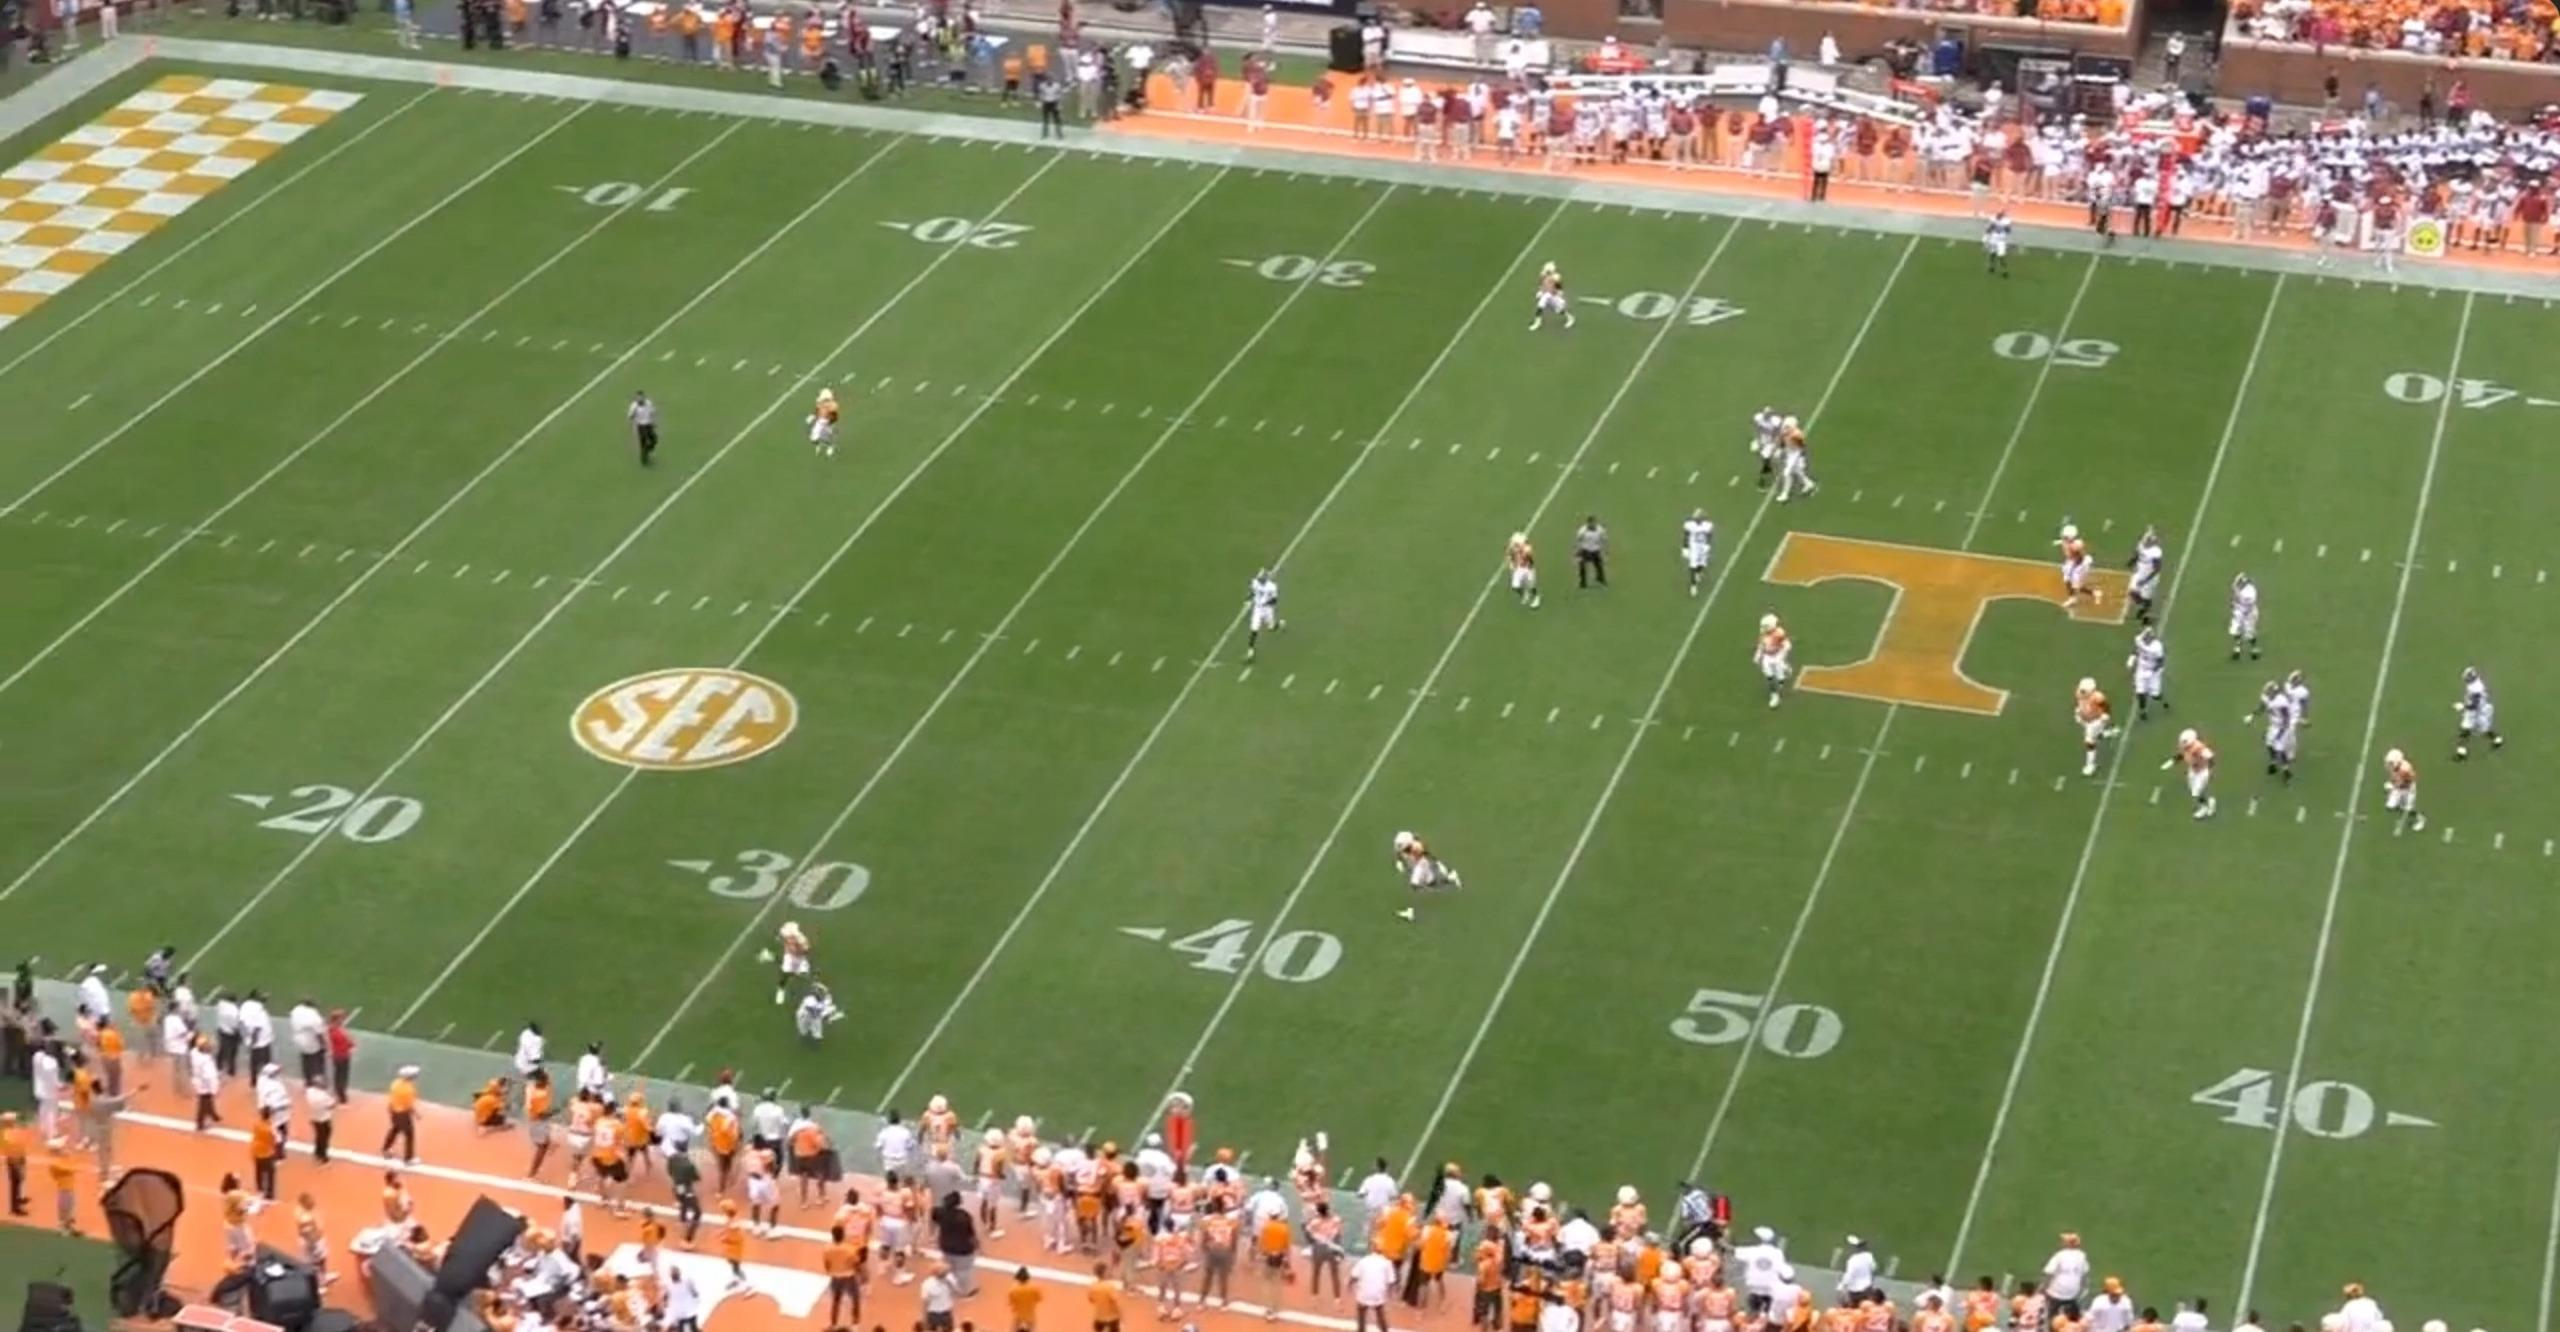player: (1388, 824, 1468, 925), (749, 920, 815, 1014), (2160, 722, 2222, 822), (2451, 664, 2508, 763), (2240, 681, 2292, 789), (2067, 677, 2116, 784), (1239, 566, 1291, 665), (1749, 610, 1798, 715), (2119, 532, 2169, 634), (2129, 631, 2181, 729), (2377, 742, 2429, 837), (2057, 519, 2106, 616), (1773, 415, 1824, 505), (788, 978, 845, 1055), (1529, 258, 1584, 337), (2231, 571, 2274, 669), (1499, 529, 1547, 616), (1678, 505, 1715, 602), (1742, 403, 1784, 487), (1975, 205, 2017, 284), (2285, 669, 2317, 771), (801, 386, 843, 463)
ref: (1668, 1181, 1729, 1263), (1579, 512, 1622, 598), (622, 389, 660, 473), (1035, 71, 1075, 145)
